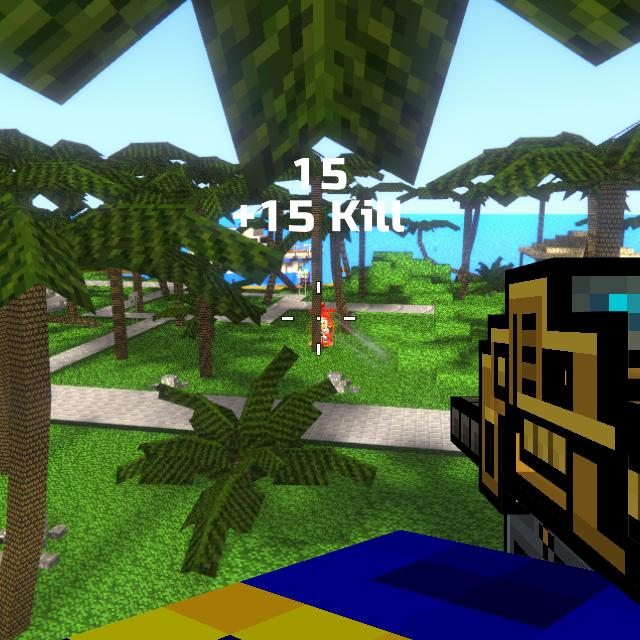Enemy: (321, 318, 333, 348)
